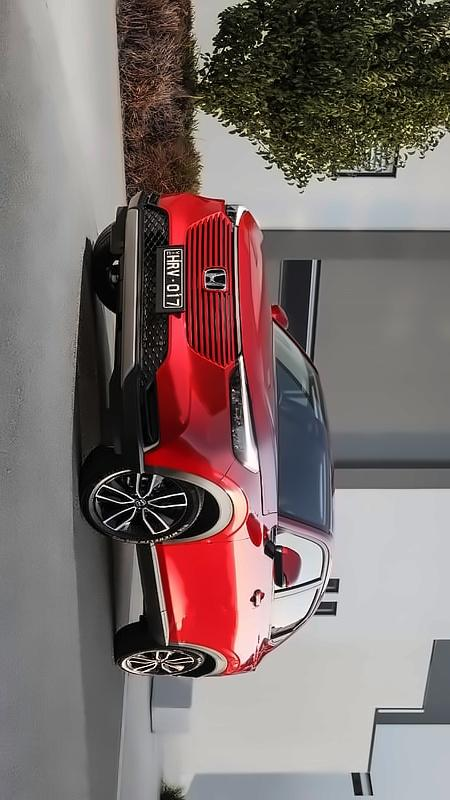Car hood: (235, 203, 282, 519)
Fender - -F-L-: (143, 456, 284, 549)
Fender - -R-L-: (188, 646, 262, 674)
Front bumper: (115, 181, 232, 490)
Headlight - -L-: (222, 348, 264, 481)
Headlight - -R-: (219, 193, 255, 231)
Passenger-s door - -F-L-: (151, 525, 334, 612)
Passenger-s door - -R-L-: (153, 596, 330, 659)
Side bumper - -L-: (129, 531, 172, 658)
Side mirror - -L-: (251, 526, 310, 593)
Side mirror - -R-: (265, 288, 297, 342)
